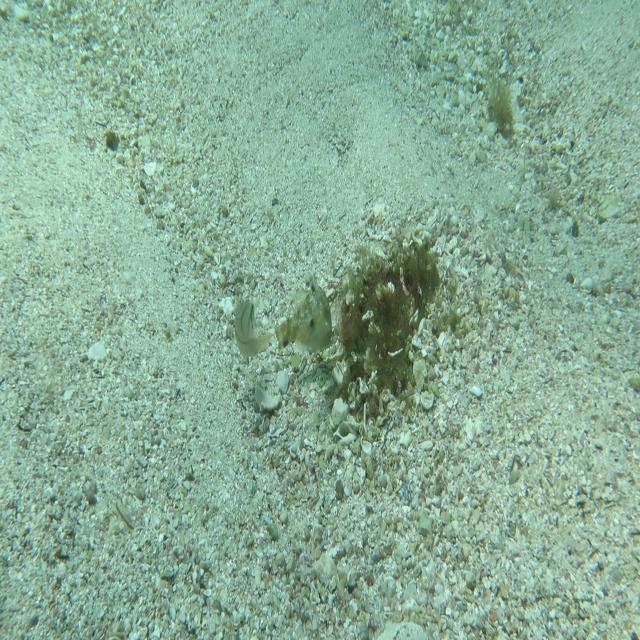DAN_CIRC: (273, 266, 334, 353)
female: (232, 299, 273, 359)
nest: (318, 218, 456, 434)
